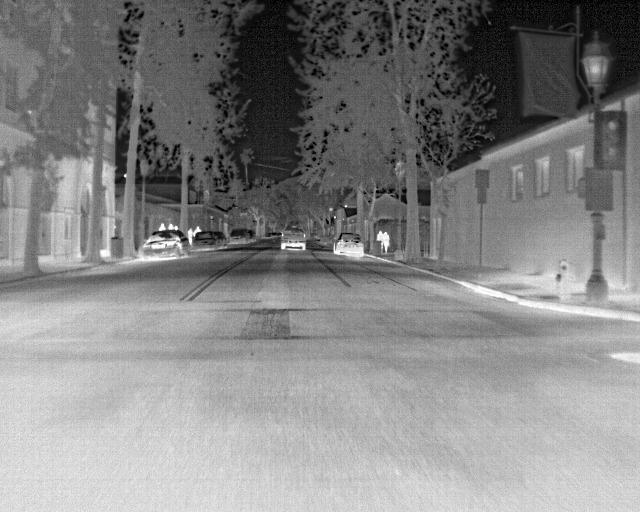bicycle: (139, 229, 190, 260), (278, 227, 308, 253), (332, 232, 364, 256), (192, 232, 218, 253), (229, 229, 248, 246), (212, 233, 229, 250)
empty: (380, 230, 392, 253)
